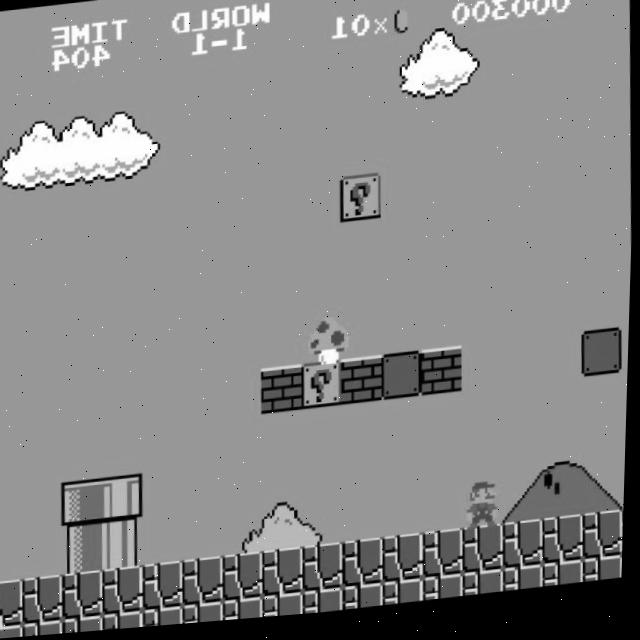1- brick_block: (421, 353, 466, 403), (341, 361, 386, 410), (261, 369, 305, 419)
11- little_mario: (464, 486, 510, 538)
12- mushroom: (308, 319, 355, 371)
13- mystery_block: (301, 365, 345, 415), (340, 179, 384, 228)
14- pipe: (103, 521, 147, 571), (63, 525, 107, 575)
15- pipe_head: (103, 476, 147, 526), (63, 480, 107, 530)
17- undestructible_block: (143, 563, 188, 613), (103, 567, 148, 617), (63, 571, 108, 621), (544, 523, 588, 573), (384, 539, 428, 589), (344, 543, 388, 593), (304, 547, 348, 597), (264, 551, 308, 601), (224, 555, 268, 605), (184, 559, 228, 609), (23, 575, 67, 625), (504, 528, 548, 577), (464, 532, 508, 581), (424, 536, 468, 585), (584, 519, 627, 569), (0, 579, 27, 628), (584, 565, 626, 592), (545, 569, 587, 596), (505, 573, 547, 600), (465, 577, 507, 604), (425, 581, 467, 608), (305, 593, 348, 619), (265, 596, 308, 622), (385, 585, 427, 611), (345, 589, 387, 615), (225, 601, 268, 625), (185, 604, 228, 627), (145, 608, 188, 630), (105, 613, 147, 632), (65, 616, 107, 635), (25, 620, 67, 637), (0, 624, 26, 639)
3- empty_block: (381, 357, 426, 407), (582, 337, 626, 387)
